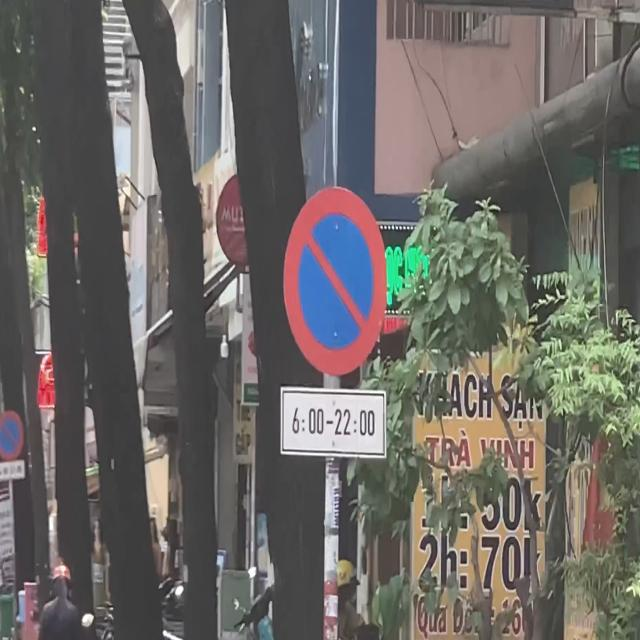Cam do: (292, 193, 382, 369), (0, 406, 26, 458)
